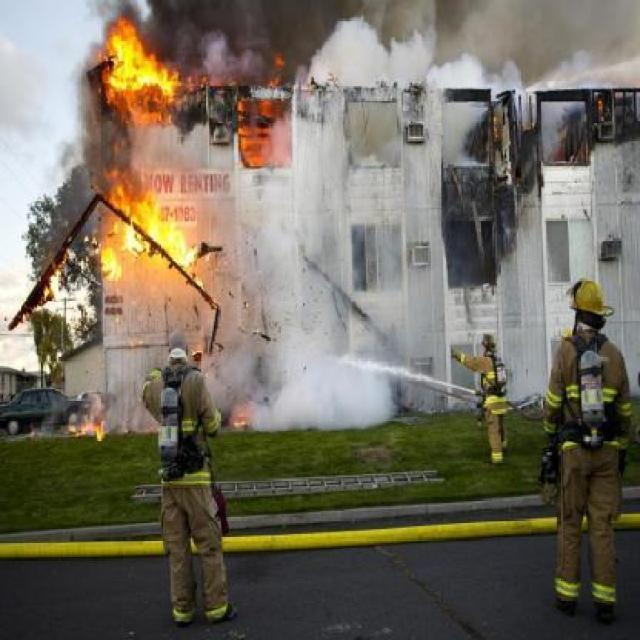Fire: (92, 165, 221, 306), (96, 15, 196, 138), (54, 408, 123, 446)
Smoke: (154, 6, 640, 104), (202, 200, 404, 433), (192, 82, 412, 216), (8, 4, 126, 233)
